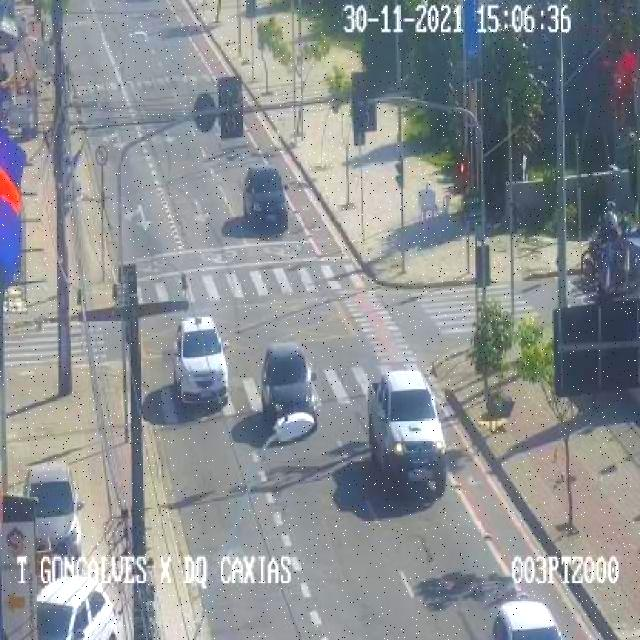Car: (25, 460, 87, 558), (36, 573, 123, 640), (175, 318, 231, 408), (264, 343, 320, 431), (244, 164, 290, 230), (489, 600, 564, 640)
Cycle: (579, 241, 626, 284)
Truck: (366, 368, 448, 495)
